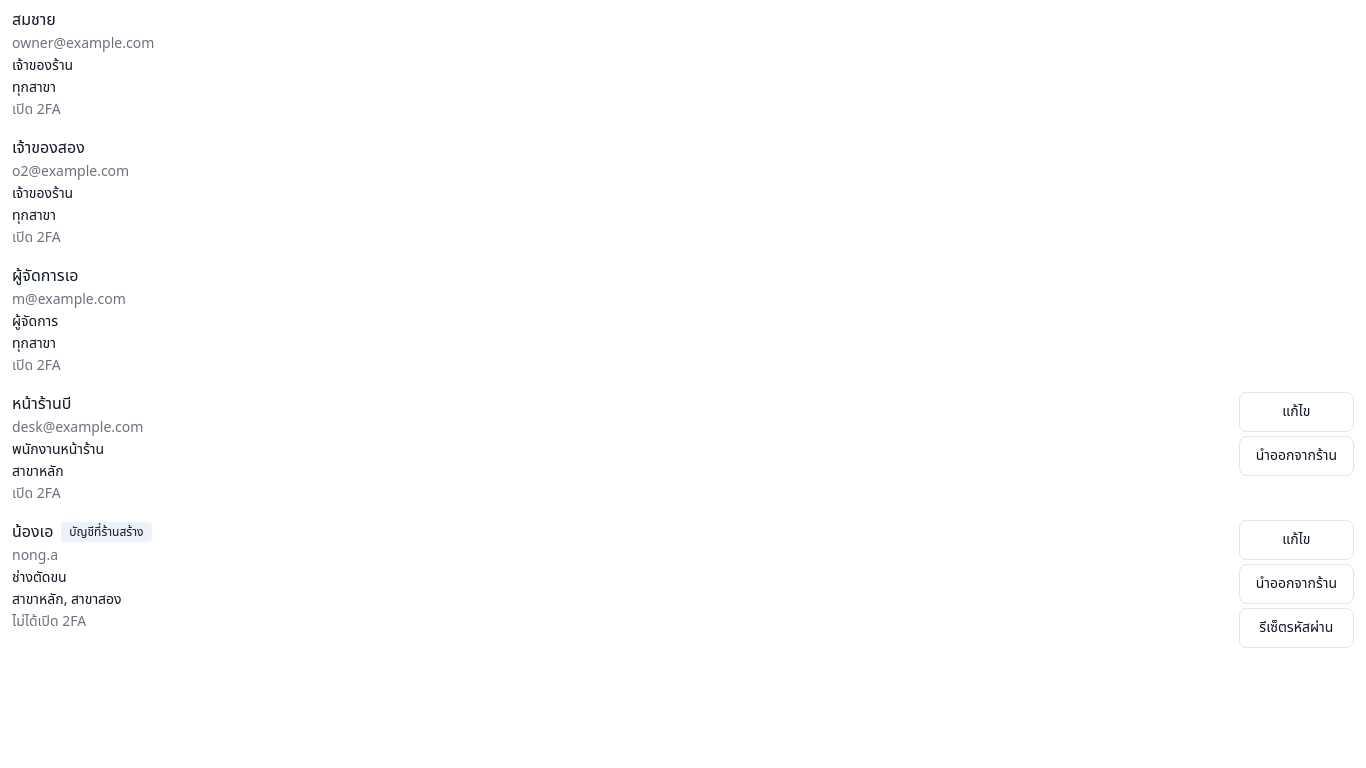
Test: edit (#contract-staff-update) › starts from the member's values; manager is offered only branch roles
Expected: the text "น้องเอ" is shown, [12,520,53,544]
Step 1. Click the button "แก้ไข" in the row of "น้องเอ" → x=1296, y=540, box [1239,520,1354,560]
(page scrolled)
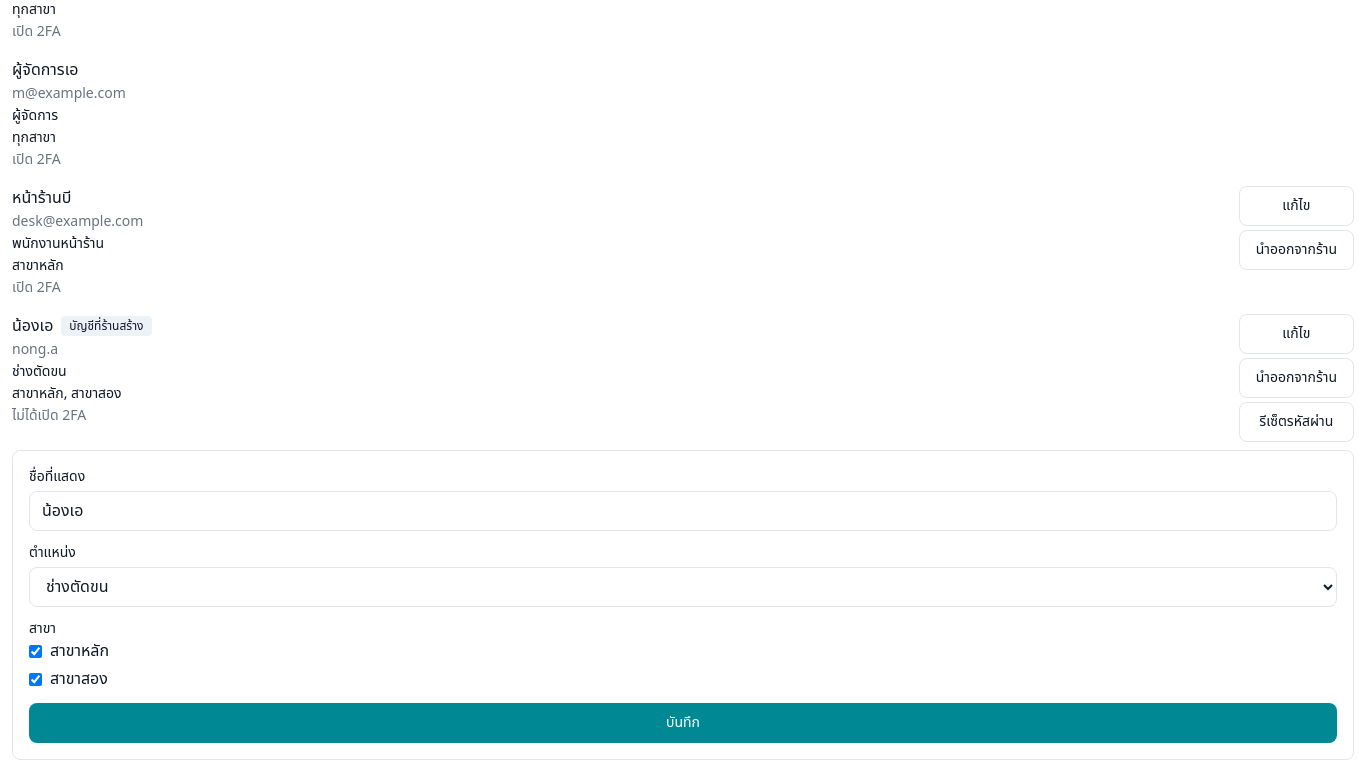
Expected: the field labelled "ชื่อที่แสดง" holds "น้องเอ", [29,491,1337,531]
Expected: the dropdown labelled "ตำแหน่ง" shows "ช่างตัดขน", [29,567,1337,607]
Expected: the checkbox labelled "สาขาหลัก" is checked, [29,644,42,658]
